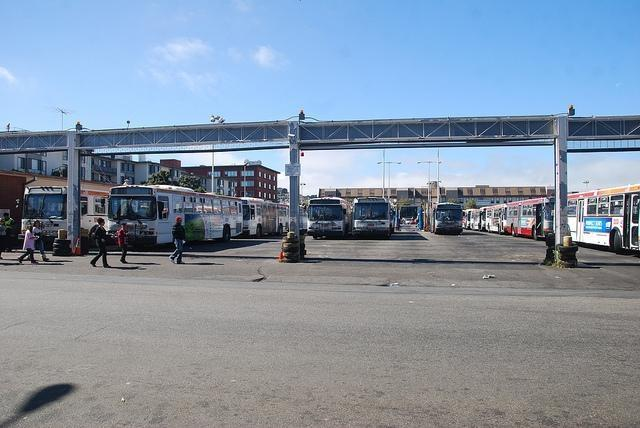bus: (106, 187, 250, 248), (17, 187, 112, 244), (566, 184, 640, 252), (507, 196, 554, 242), (307, 198, 353, 240), (352, 198, 394, 238), (241, 196, 280, 237), (429, 202, 464, 236), (486, 204, 506, 233), (464, 208, 477, 230)
